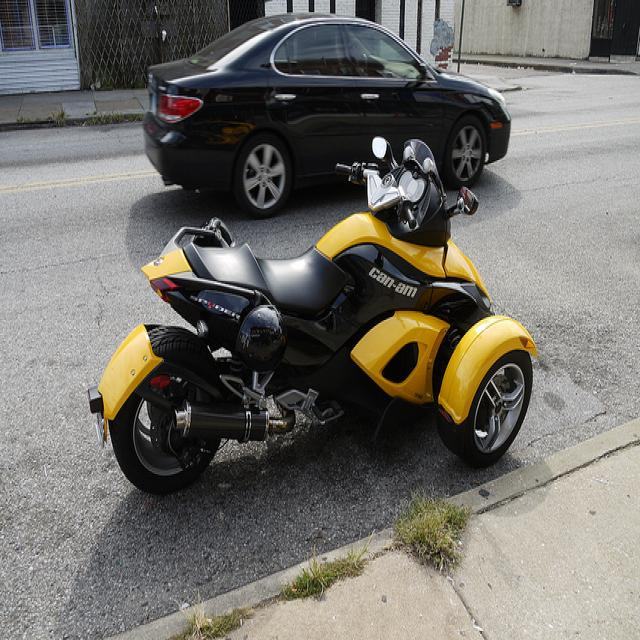motor: (88, 134, 539, 498)
